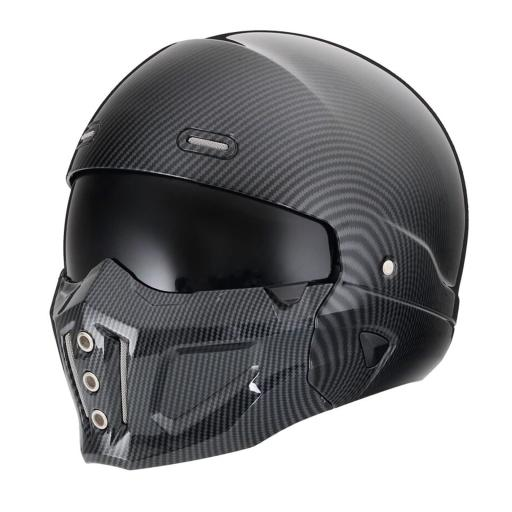helmet-detection: (0, 4, 510, 502)
